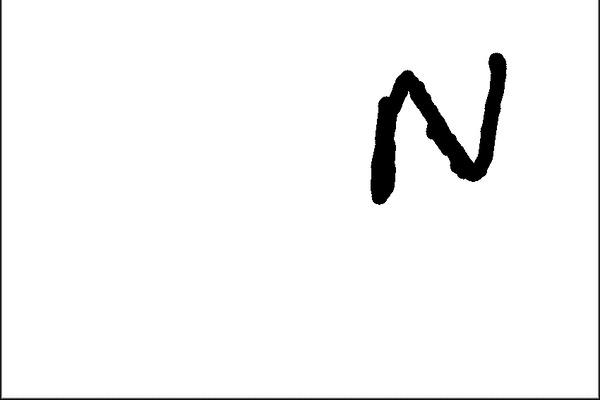N: (363, 48, 512, 208)
